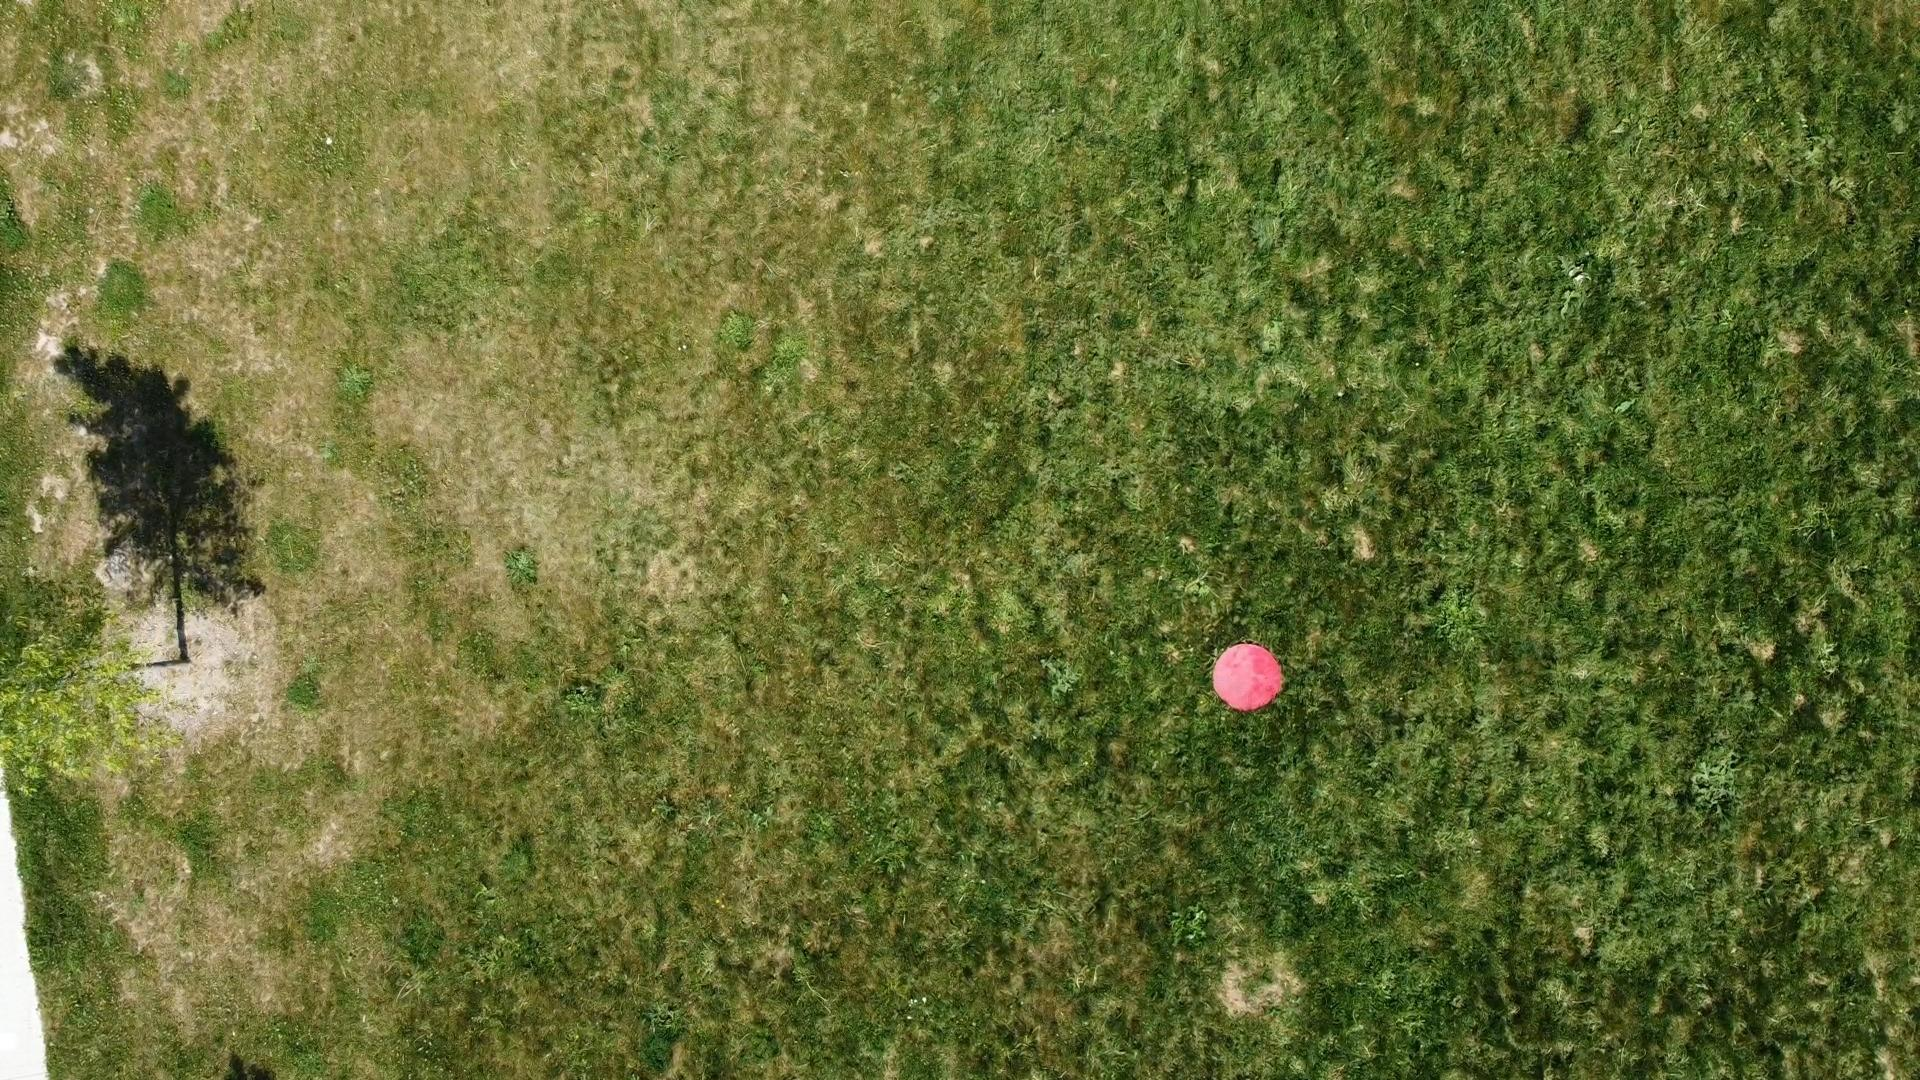Red: (1212, 638, 1284, 713)
